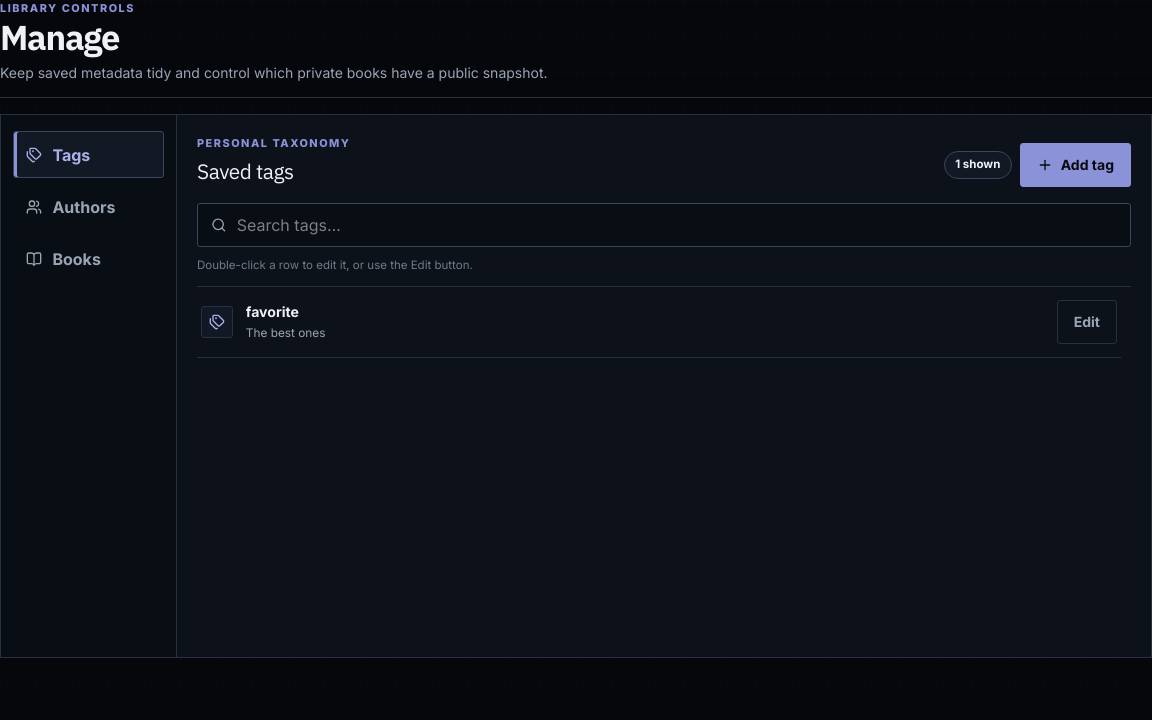
Test: ManagePage › opens a tag on double click and saves its description
Double-click the text "favorite" at [272, 312], box x1=246 y1=303 x2=299 y2=320
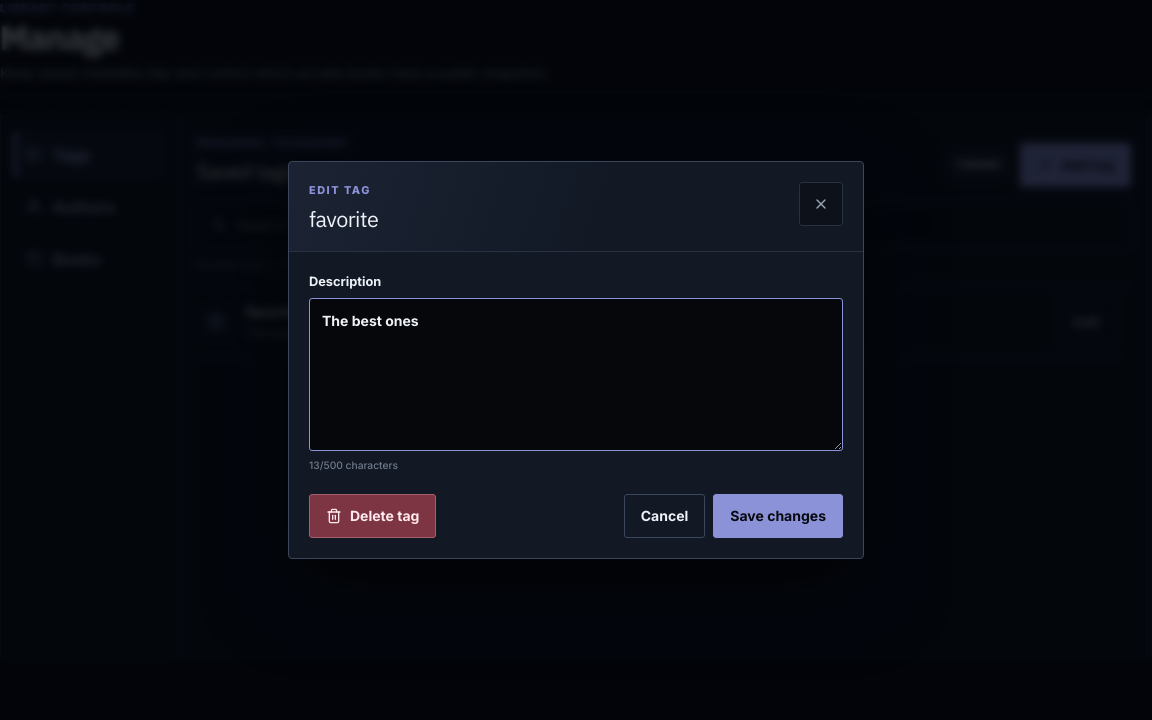
Replace the text in the text box labelled "Description" with "Worth rereading" at [576, 375], box x1=309 y1=298 x2=843 y2=451
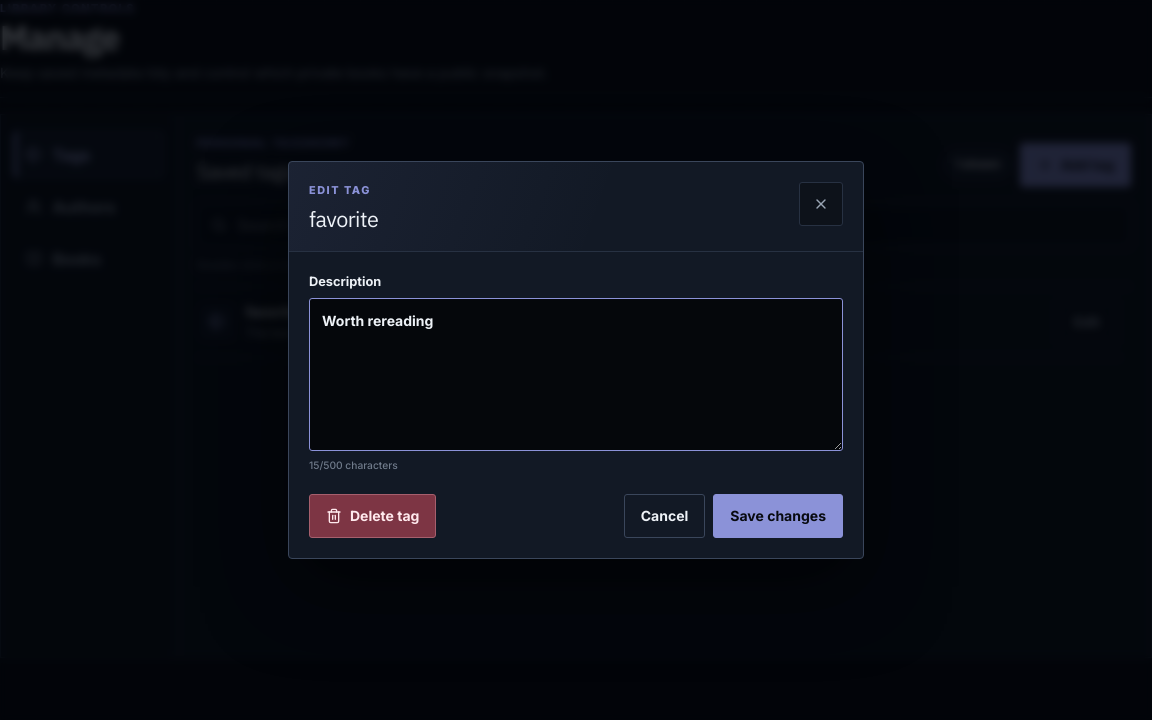
Click the button "Save changes" at [778, 516], box x1=713 y1=494 x2=843 y2=538
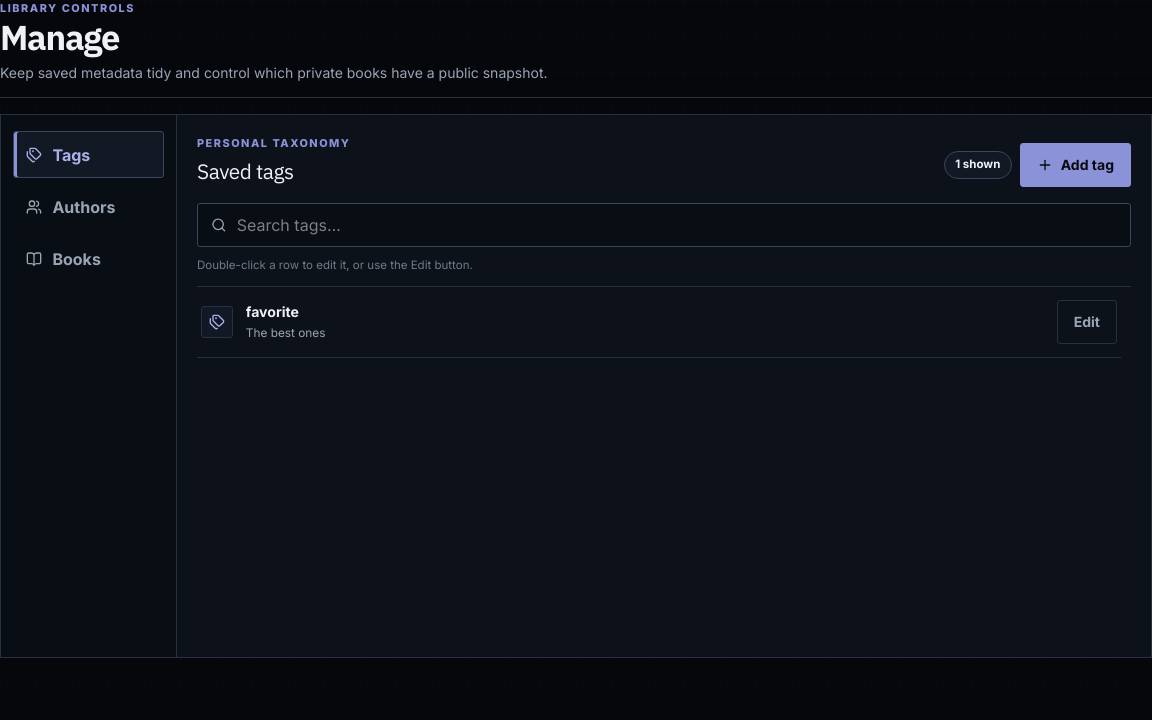
Expected: the dialog is gone
